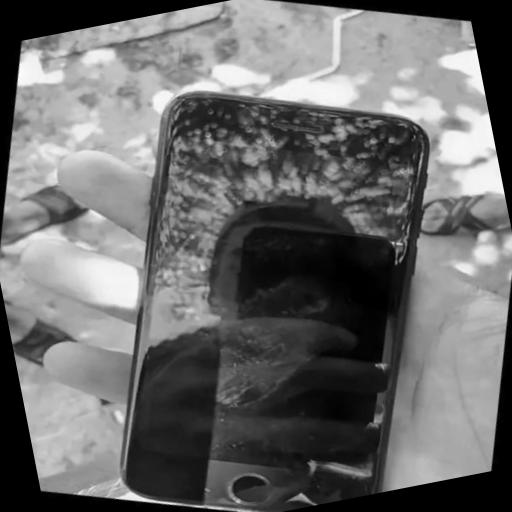phone: (118, 88, 433, 512)
